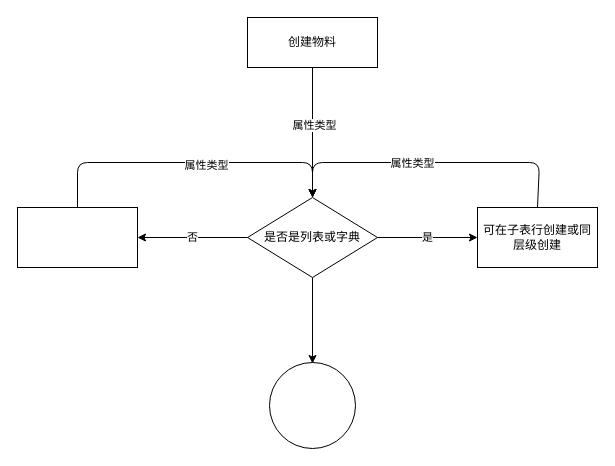
Some shapes in this 615 by 466 pixel diagram are drawn without their labels. Each missing label, with the box of its shape:
只能同层级创建: (16, 206, 138, 268)
退出: (268, 362, 356, 448)
